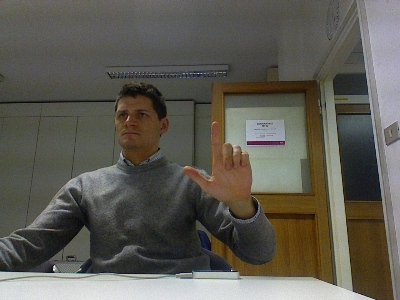枪: (181, 119, 253, 203)
